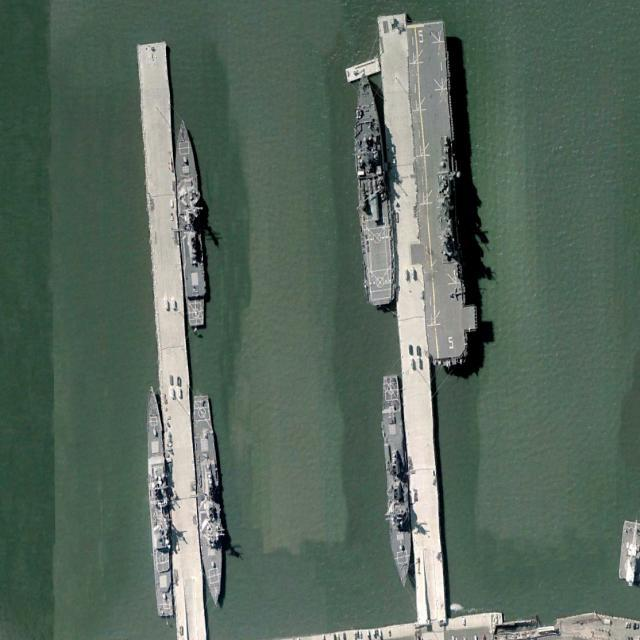Cruiser: (142, 384, 175, 620)
Destroyer: (190, 392, 228, 610), (171, 117, 210, 329), (378, 374, 415, 590)
Landing: (396, 21, 479, 371), (348, 70, 400, 308)
